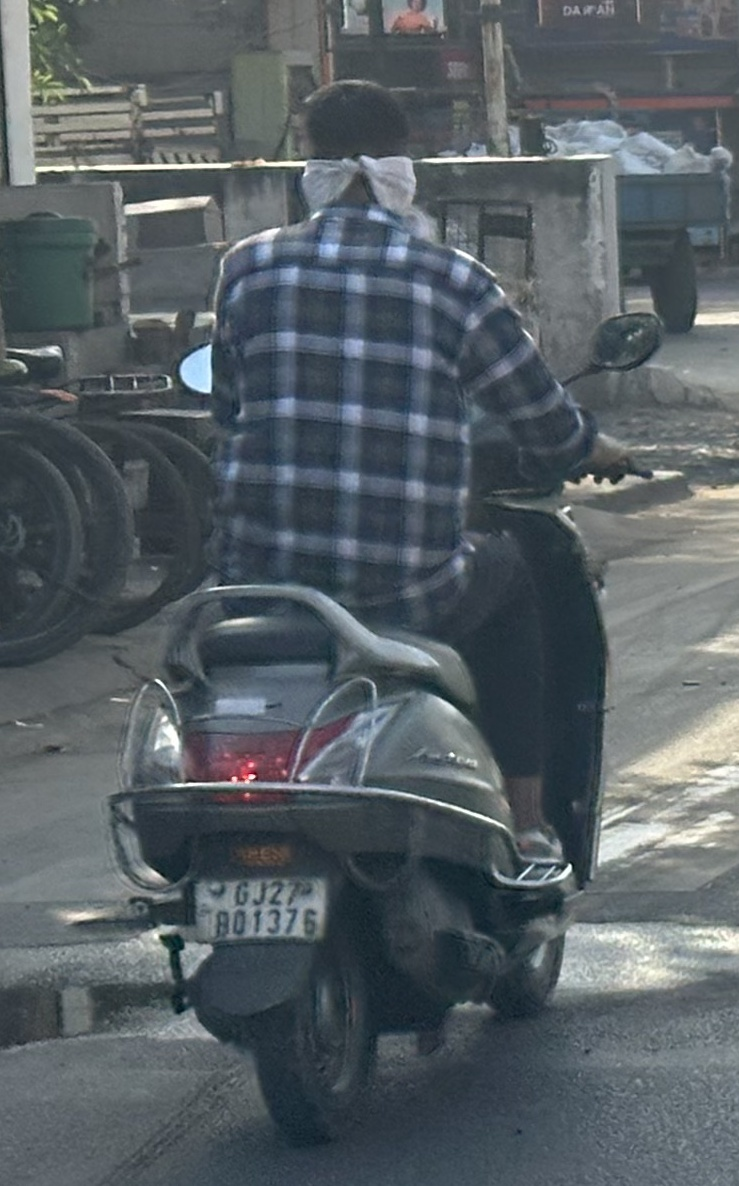BikeWithRider: (101, 76, 681, 1152)
NoHelmet: (301, 82, 424, 225)
